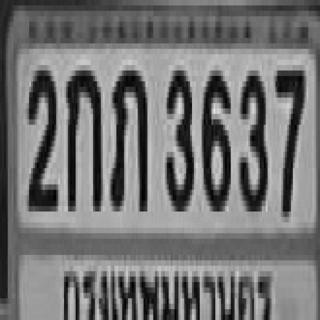A01: (64, 65, 99, 206)
A32: (109, 65, 145, 206)
N02: (25, 65, 56, 206)
N03: (238, 65, 266, 206), (165, 65, 192, 206)
N06: (201, 65, 228, 206)
N07: (274, 65, 302, 212)
P04: (55, 251, 278, 320)
